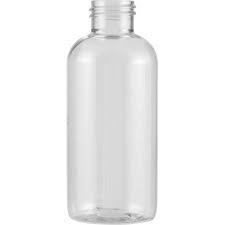Container for household chemicals: (52, 3, 169, 221)
